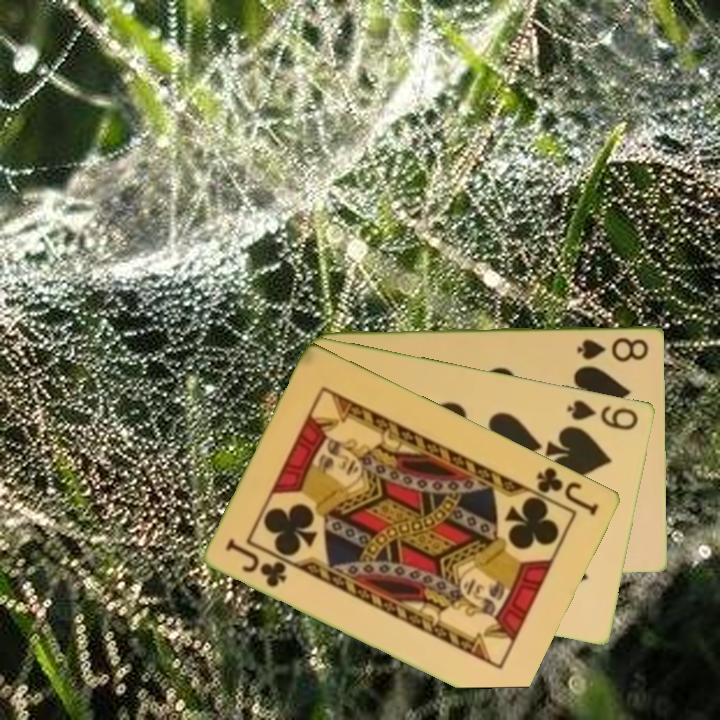8s: (574, 333, 652, 363)
9s: (564, 396, 642, 433)
Jc: (533, 463, 603, 519), (222, 535, 291, 590)
